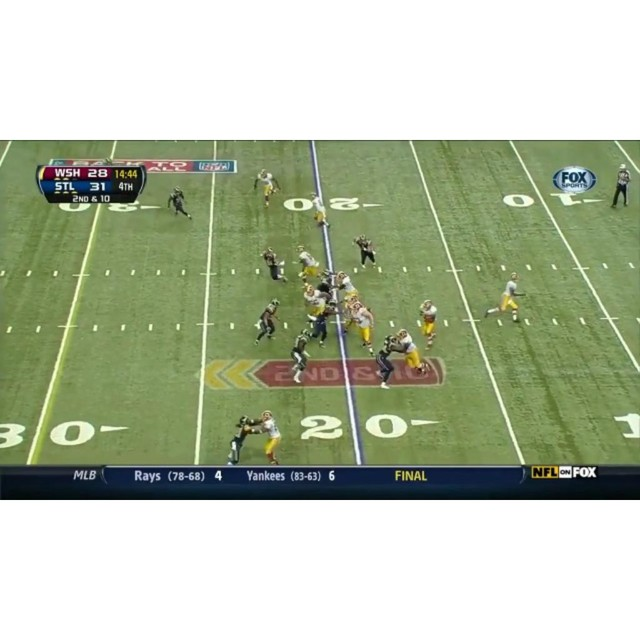american-football-player: (485, 272, 525, 323), (247, 410, 282, 466), (375, 334, 404, 390), (306, 301, 338, 349), (227, 415, 257, 466), (397, 329, 428, 375), (349, 304, 375, 355), (254, 298, 280, 346), (289, 329, 311, 384), (254, 169, 279, 208), (418, 299, 437, 350), (295, 245, 321, 281), (261, 247, 287, 283), (353, 234, 378, 270), (310, 192, 331, 229), (168, 188, 192, 220), (337, 271, 359, 301), (315, 270, 336, 299)
referee: (610, 163, 632, 208)
